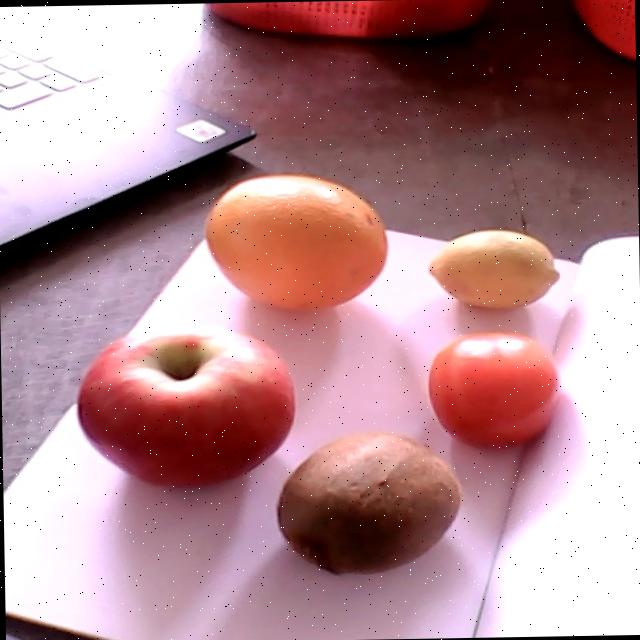apple: (77, 323, 293, 487)
kiwi: (278, 428, 461, 574)
lemon: (428, 227, 559, 308)
orange: (205, 174, 384, 310)
tomato: (428, 330, 553, 446)
